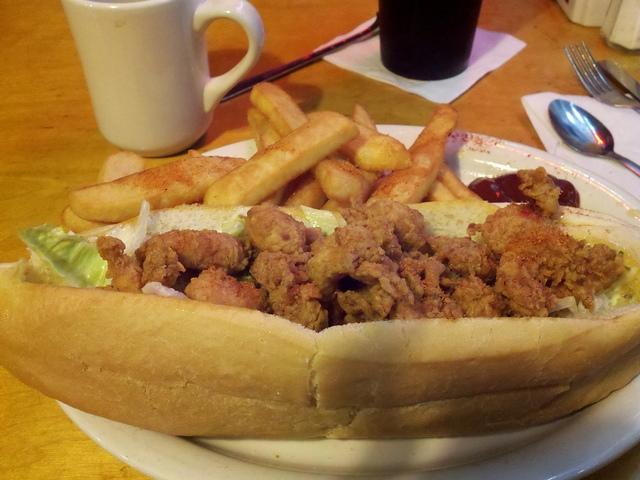lettuce: (17, 200, 150, 290), (300, 204, 340, 236)
